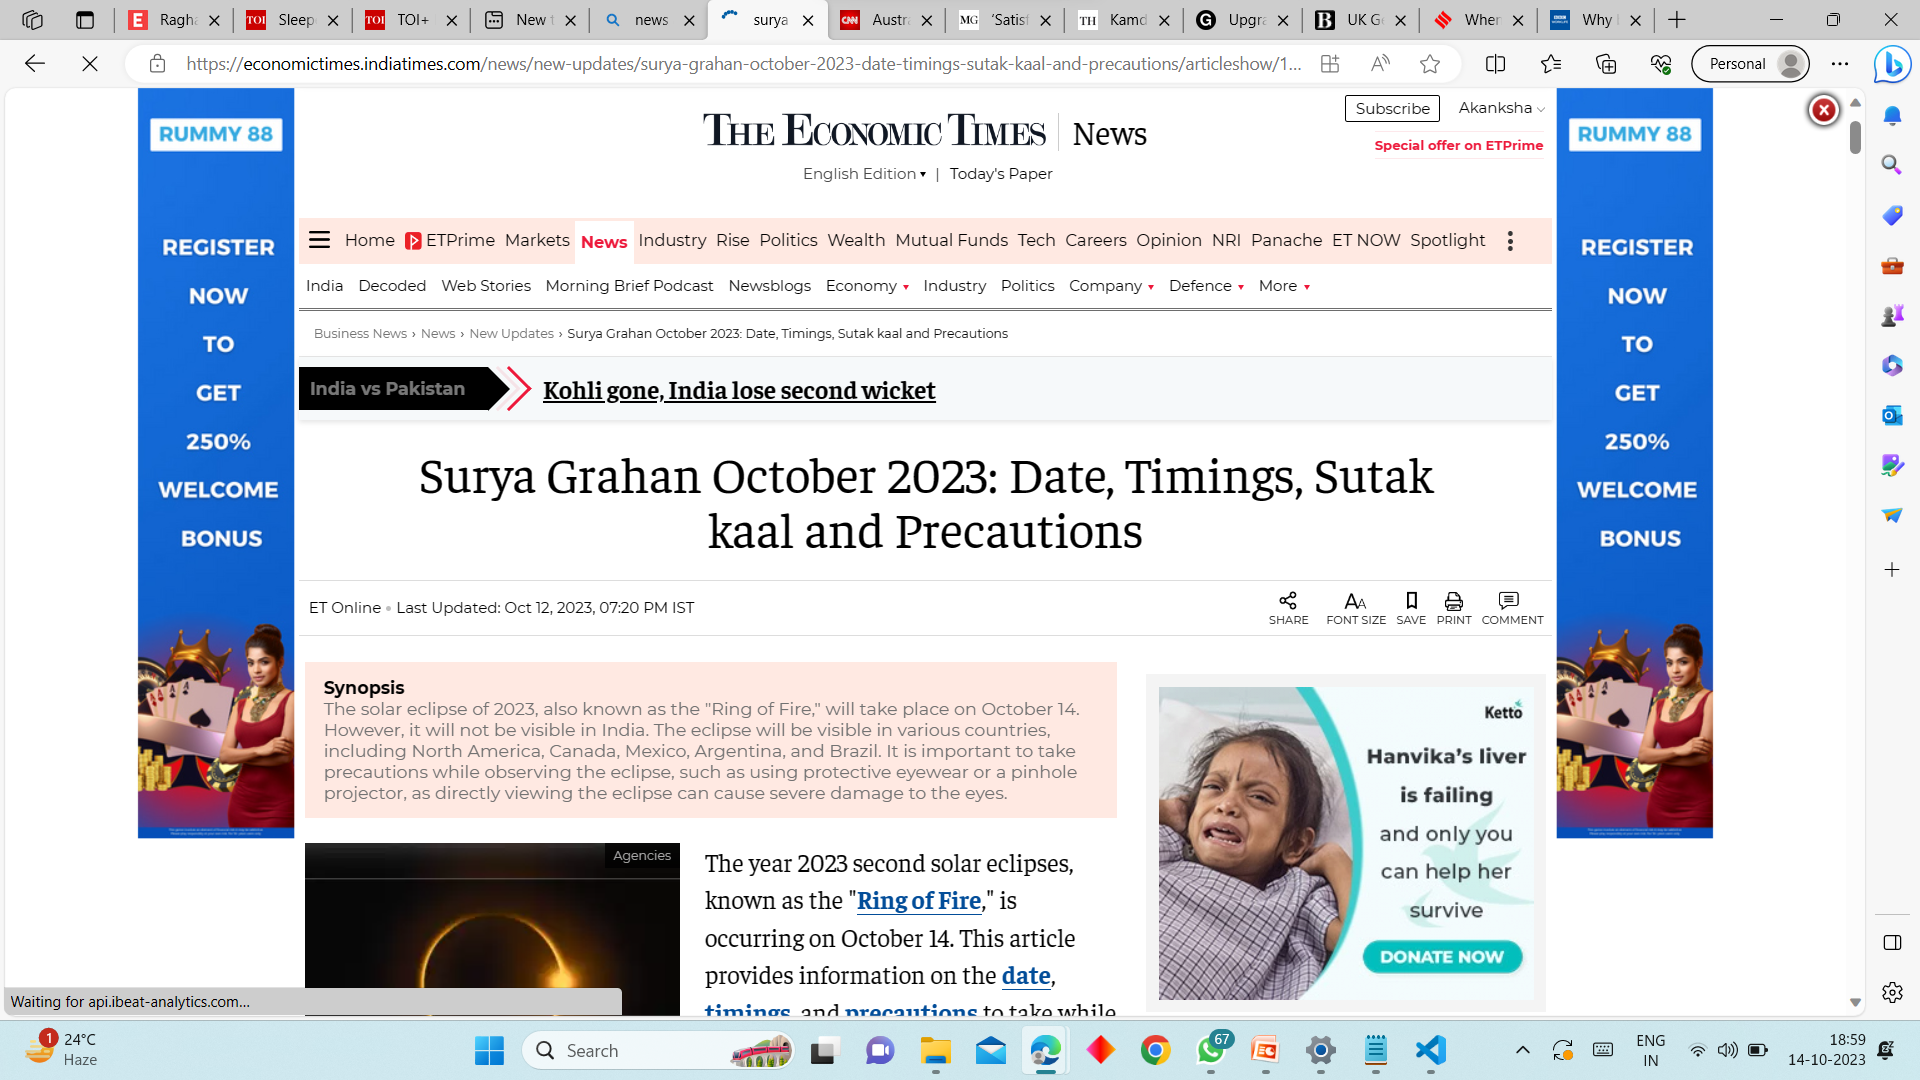Image: (1160, 671, 1543, 1015), (125, 90, 286, 836), (1565, 84, 1706, 832), (309, 852, 678, 1009)
Paragraph: (373, 430, 1505, 568), (324, 700, 1077, 810), (687, 841, 1135, 1013), (688, 84, 1212, 157), (293, 315, 1015, 351), (527, 364, 955, 422), (309, 588, 704, 630), (322, 653, 524, 698), (796, 165, 1054, 196), (306, 371, 496, 405), (1348, 92, 1436, 123), (1456, 94, 1545, 116)
